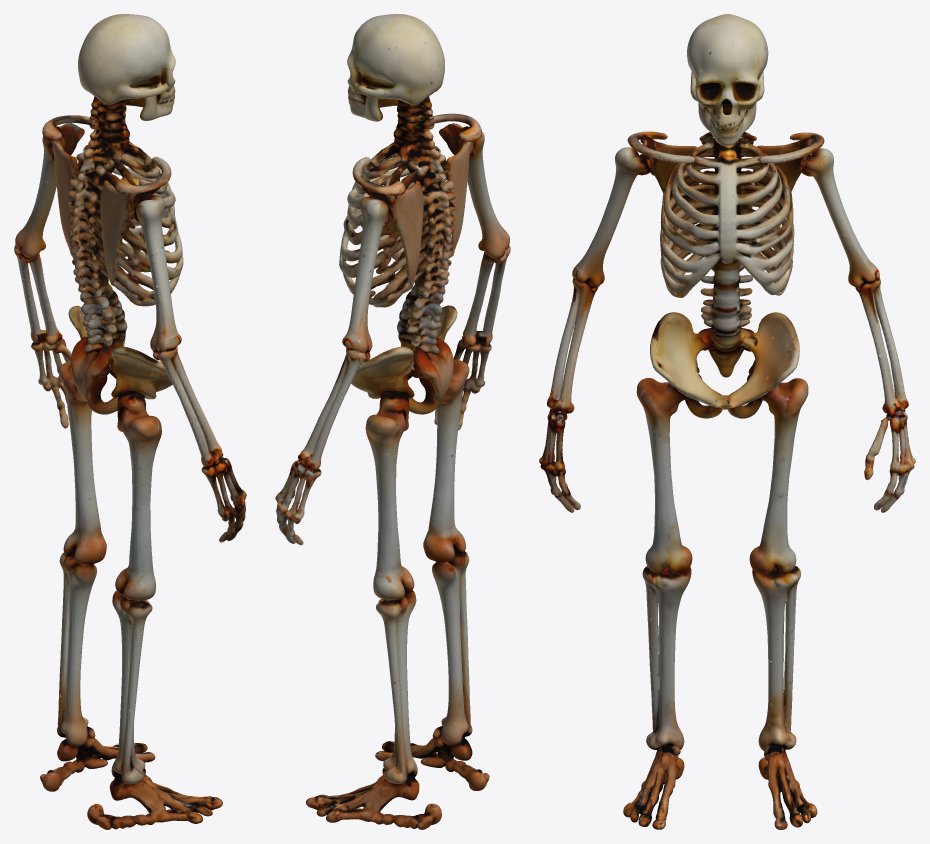
Rendered from skeleton_model.glb.
3 views of the same model, side by side, from view 1: azimuth 30°, elevation 25°; view 2: azimuth 150°, elevation 25°; view 3: azimuth 270°, elevation 25° (orthographic).
Parts seen in each view (by area): view 1: tripo_node_59d33369-c72a-4927-9645-4faf6f81b9eb; view 2: tripo_node_59d33369-c72a-4927-9645-4faf6f81b9eb; view 3: tripo_node_59d33369-c72a-4927-9645-4faf6f81b9eb.
Part boxes in pixels (x1,y1,x2,y2): tripo_node_59d33369-c72a-4927-9645-4faf6f81b9eb: (14, 14, 246, 829); tripo_node_59d33369-c72a-4927-9645-4faf6f81b9eb: (275, 14, 510, 829); tripo_node_59d33369-c72a-4927-9645-4faf6f81b9eb: (539, 14, 915, 829).
Bounding box in the file's own units: 0.1602 × 1 × 0.4347.
Materials: 1 (1 with a texture image).
